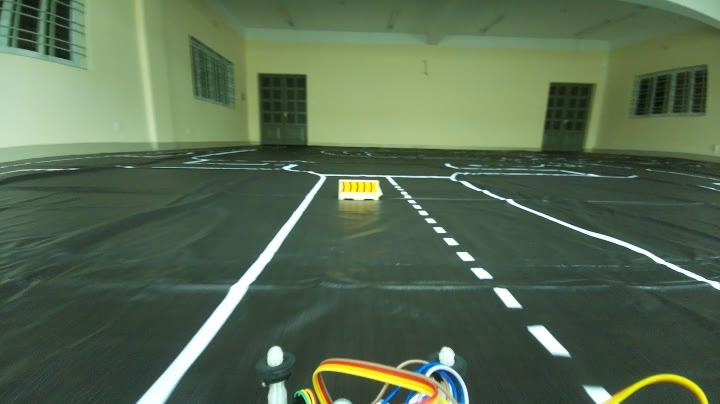roadblock: (334, 175, 383, 202)
